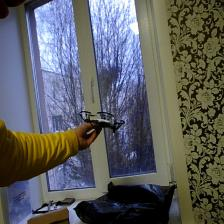drone: (75, 105, 127, 138)
